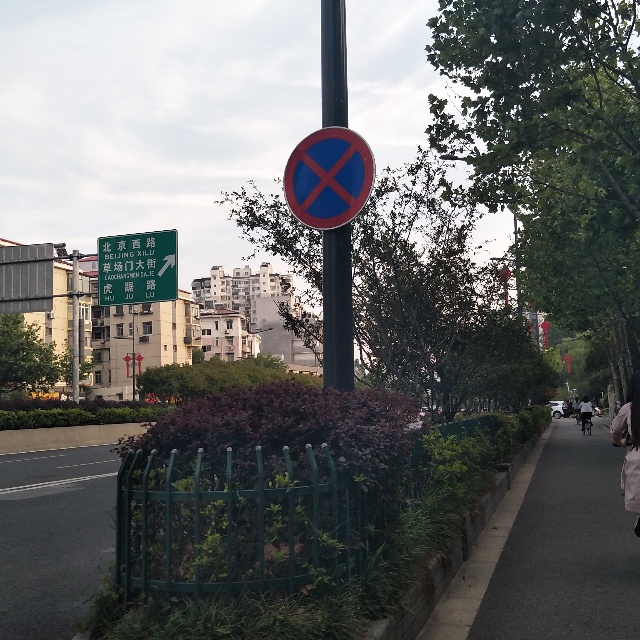stop: (283, 126, 377, 230)
